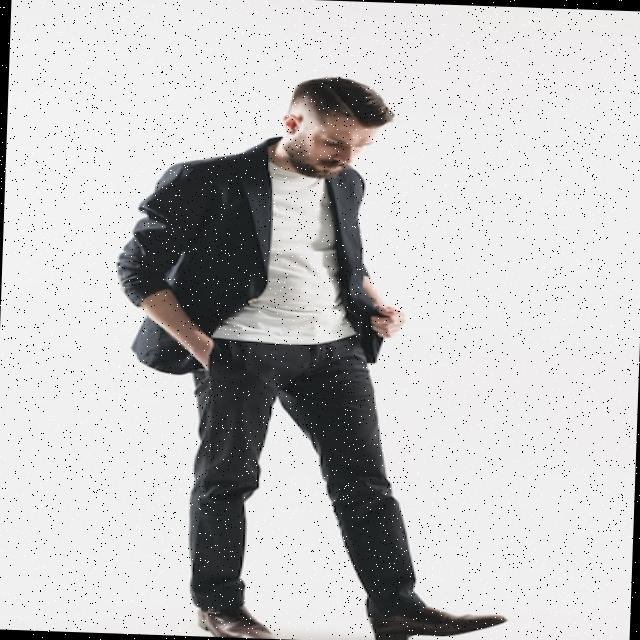Person: (104, 66, 524, 640)
